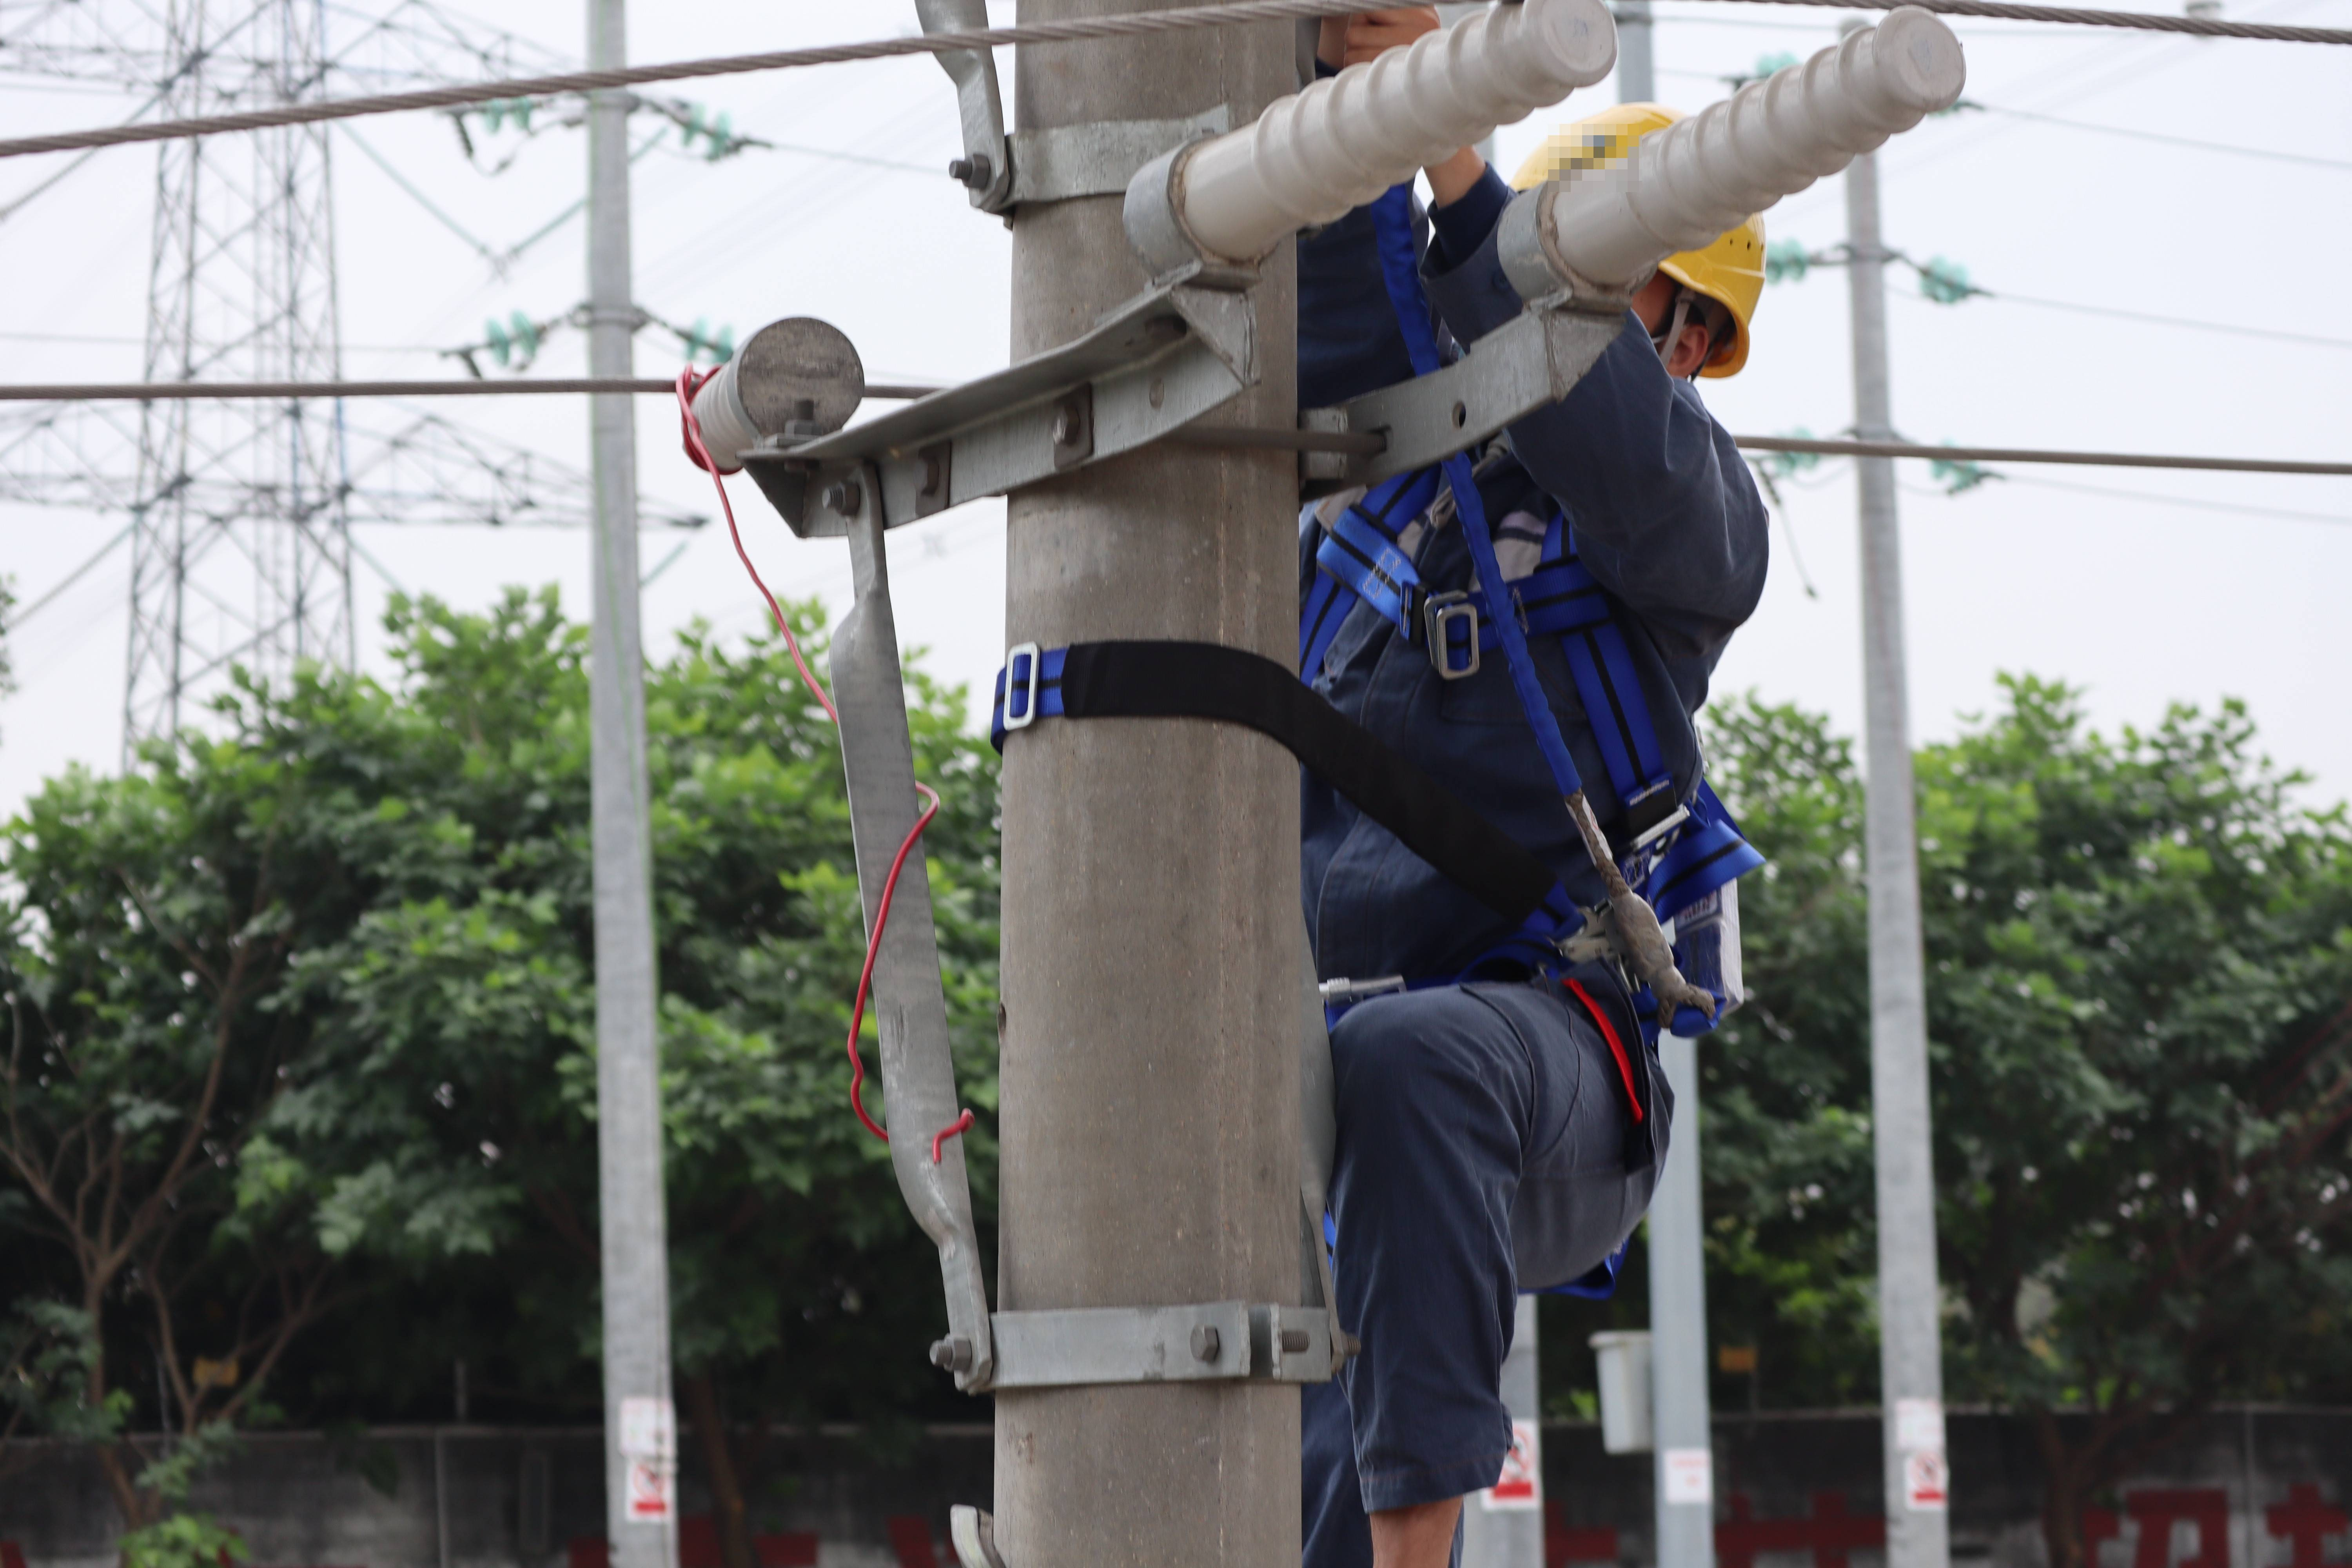downsuit: (1292, 1010, 1662, 1552)
upsuit: (1312, 196, 1771, 982)
